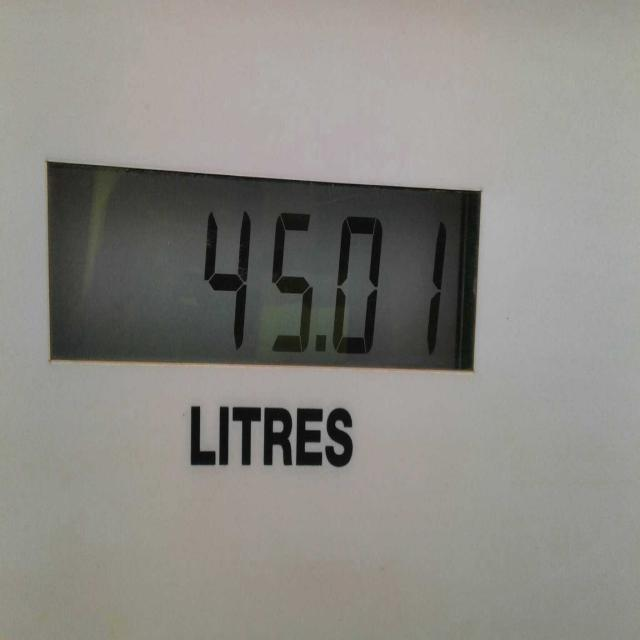.: (311, 326, 334, 368)
0: (328, 189, 385, 371)
1: (412, 202, 450, 361)
4: (198, 200, 258, 353)
5: (263, 199, 317, 353)
